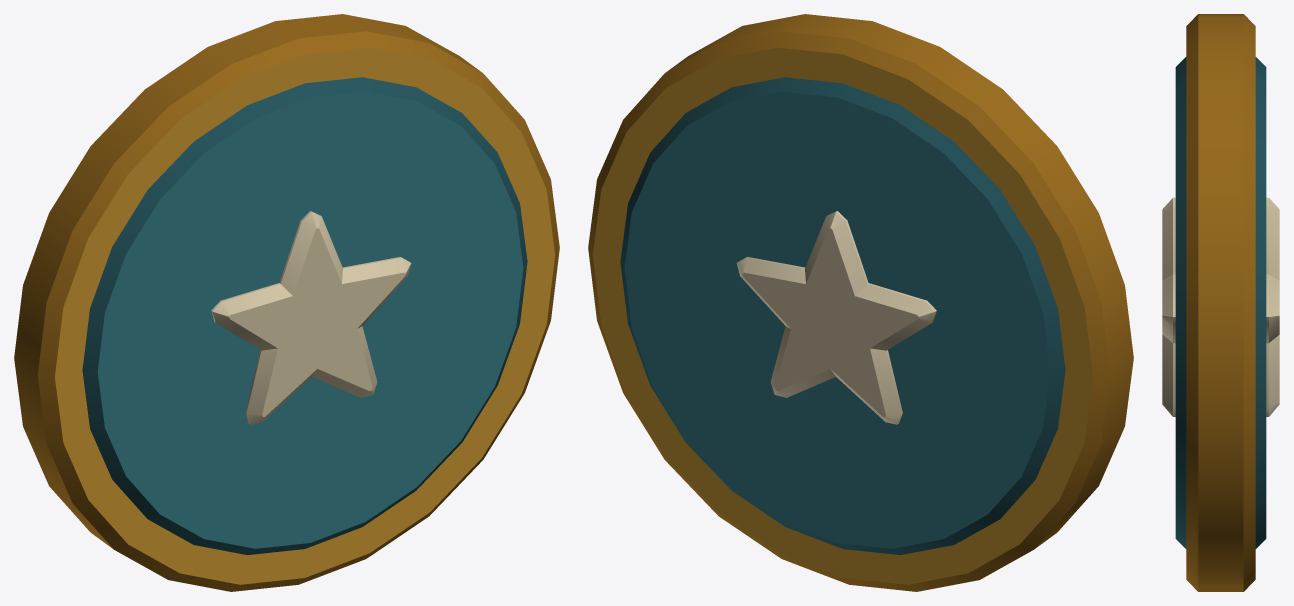
File: Badge_04.glb
3 views of the same model, side by side, from view 1: azimuth 30°, elevation 25°; view 2: azimuth 150°, elevation 25°; view 3: azimuth 270°, elevation 25° (orthographic). The views are drawn at different scales.
Visible parts, largest first — view 1: Badge_04; view 2: Badge_04; view 3: Badge_04.
Boxes of the visible parts, x1=… form: Badge_04: x1=14, y1=14, x2=559, y2=591; Badge_04: x1=588, y1=14, x2=1133, y2=591; Badge_04: x1=1162, y1=14, x2=1279, y2=591.
Size of the model in its own units: 2.17 by 2.17 by 0.44.
